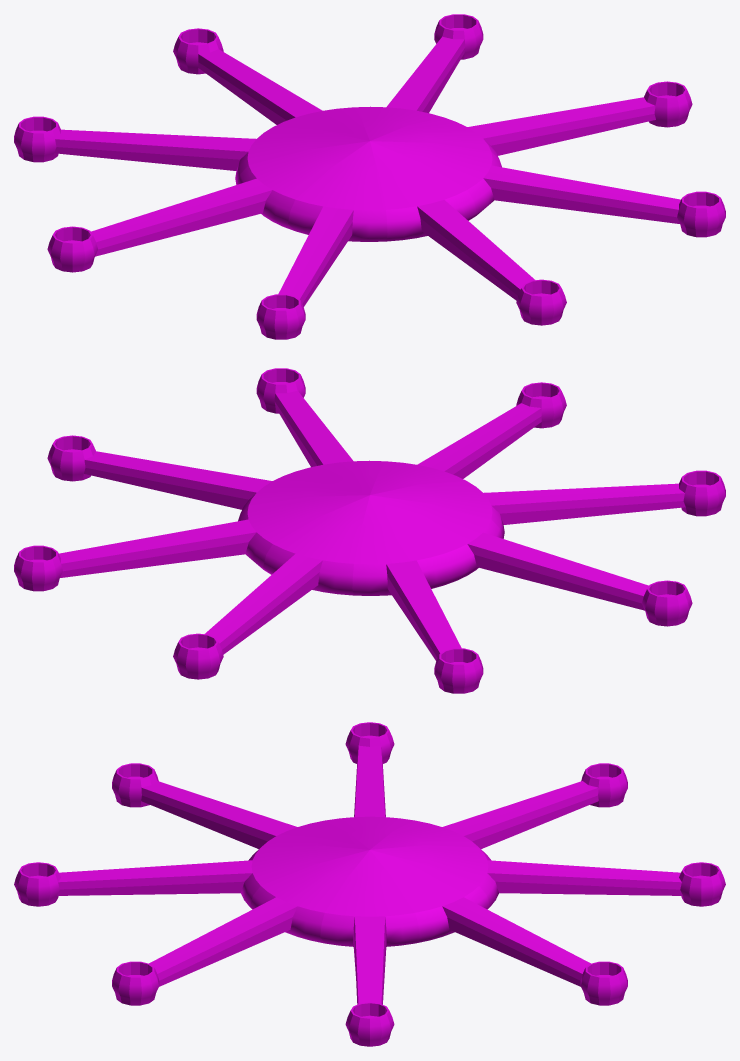
The model's file is body8_18.fbx.
3 views of the same model, one above another, from view 1: azimuth 30°, elevation 25°; view 2: azimuth 150°, elevation 25°; view 3: azimuth 270°, elevation 25° (orthographic). The views are drawn at different scales.
Visible parts, largest first — view 1: pCylinder275; view 2: pCylinder275; view 3: pCylinder275.
Boxes of the visible parts, x1=… form: pCylinder275: x1=14, y1=14, x2=725, y2=339; pCylinder275: x1=14, y1=368, x2=725, y2=693; pCylinder275: x1=14, y1=722, x2=725, y2=1046.
Size of the model in its own units: 36.48 by 2.75 by 36.48.
